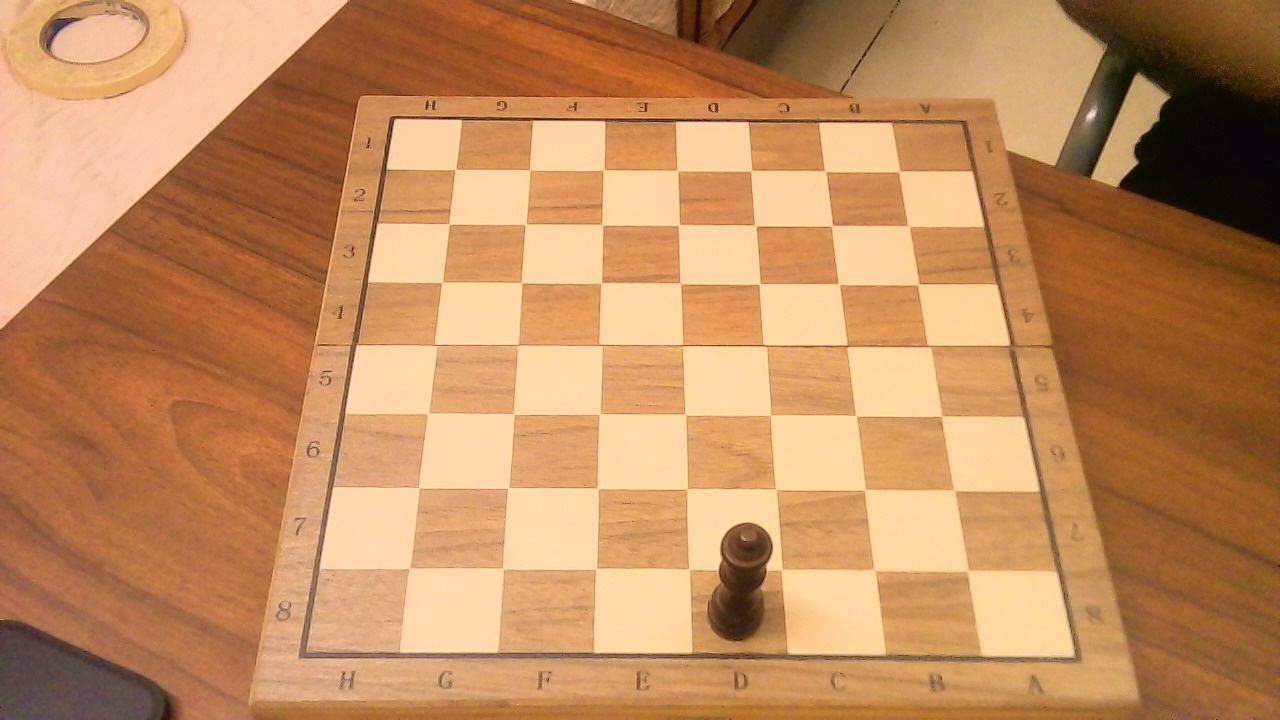q: (699, 510, 788, 647)
